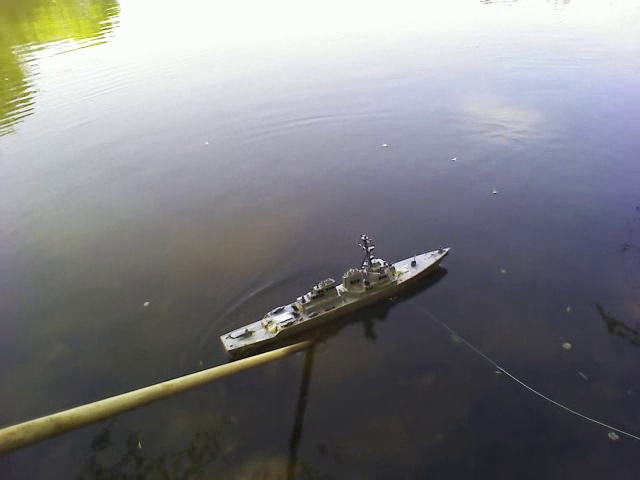warship: (213, 232, 454, 355)
